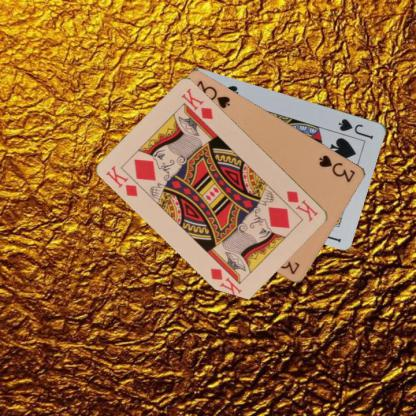3s: (316, 152, 357, 184)
Js: (336, 116, 375, 141)
Kd: (284, 188, 320, 223), (103, 163, 139, 198)
